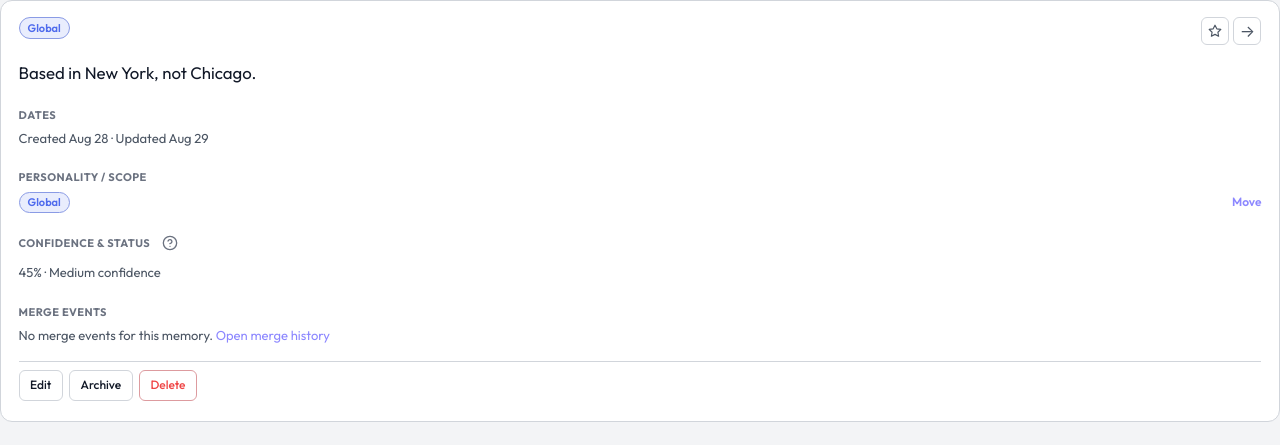
Test: MemoryFocusPanelComponent › opens the confidence help hint with an explanation
This screenshot has width=1280, height=445.
Click the button with class "ui-help-hint__trigger": (170, 244) [156,230,184,258]
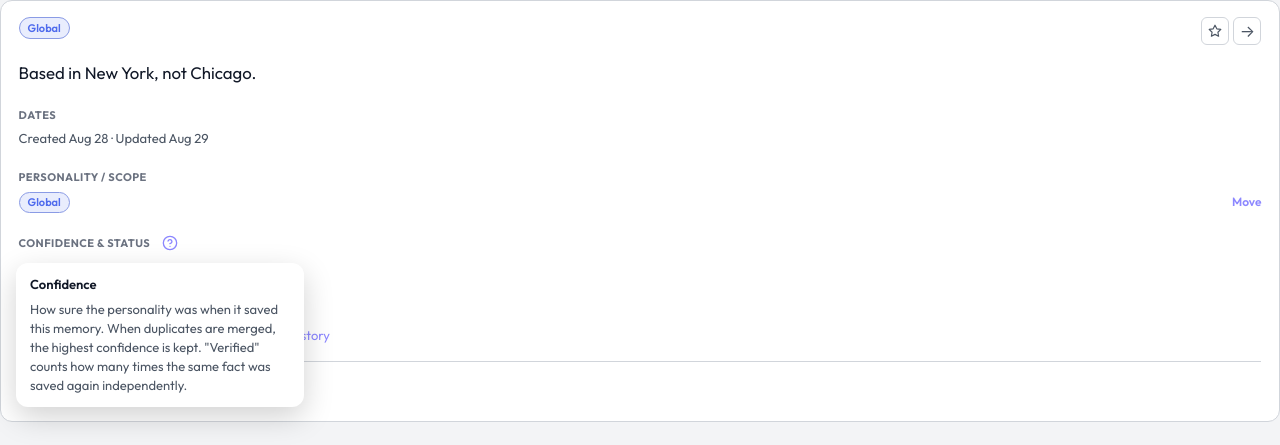
Now the element with class "ui-help-hint__panel" shows "Confidence", box [30,276,97,292]
Now the element with class "ui-help-hint__panel" shows "highest confidence is", box [30,301,278,393]
